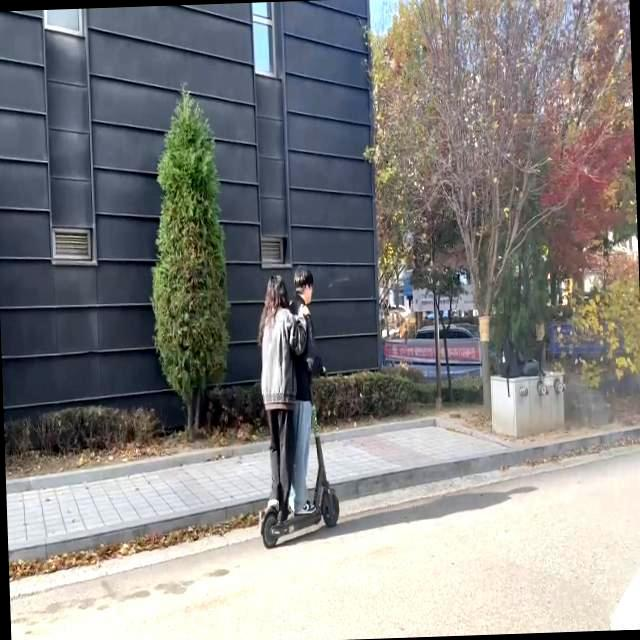bare_head: (285, 259, 322, 305), (260, 270, 289, 307)
human: (282, 262, 327, 520), (258, 273, 303, 526)
kickboard: (251, 479, 355, 550)
